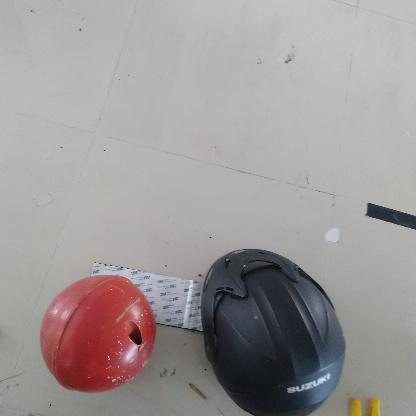red_buoy: (40, 272, 158, 396)
